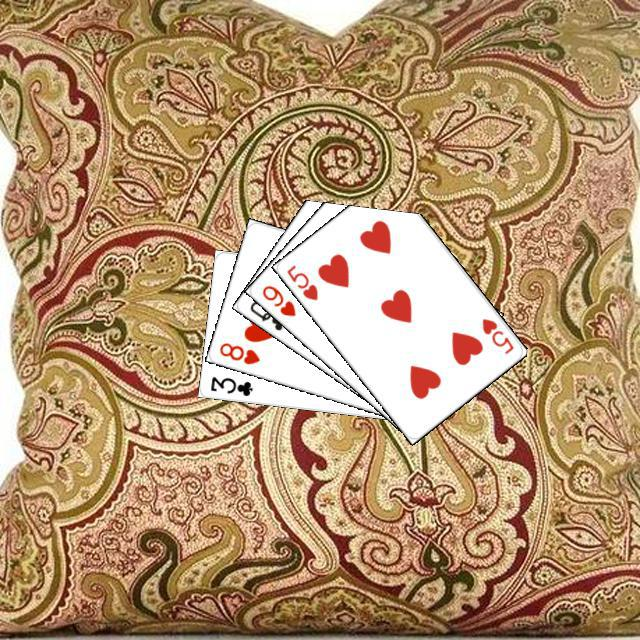3c: (206, 371, 255, 398)
5h: (477, 313, 516, 356), (282, 260, 320, 302)
8h: (214, 338, 262, 366)
9h: (257, 280, 298, 318)
Qc: (245, 292, 297, 333)
